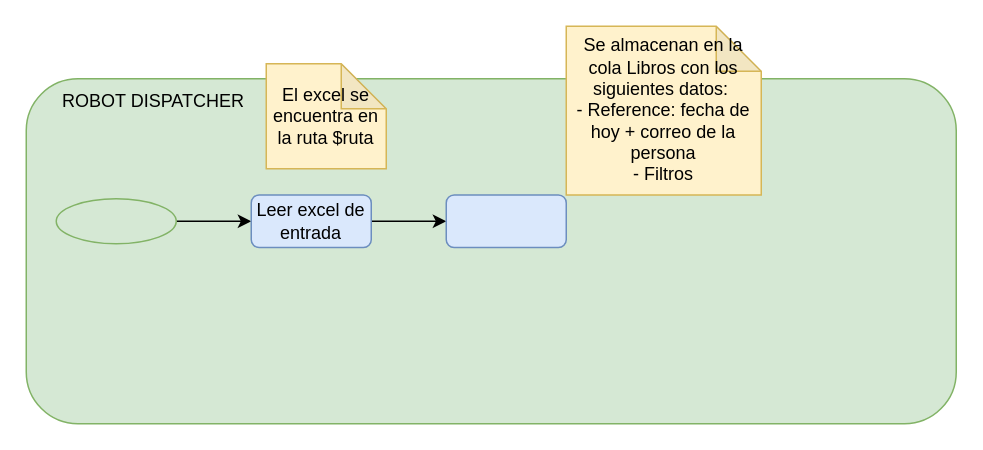
This 983x450 diagram has some shape labels left out. Here are the shapes that lost their labels. From the top down, the centre of each, then its label:
At [115,220]: "START".
At [505,221]: "Crear queue por cada registro".
